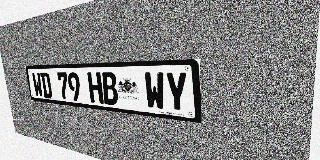7: (56, 72, 70, 100)
9: (67, 72, 82, 101)
B: (101, 72, 119, 105)
D: (40, 72, 53, 98)
H: (87, 72, 104, 104)
W: (144, 72, 166, 111), (32, 72, 44, 97)
Y: (165, 72, 189, 113)
